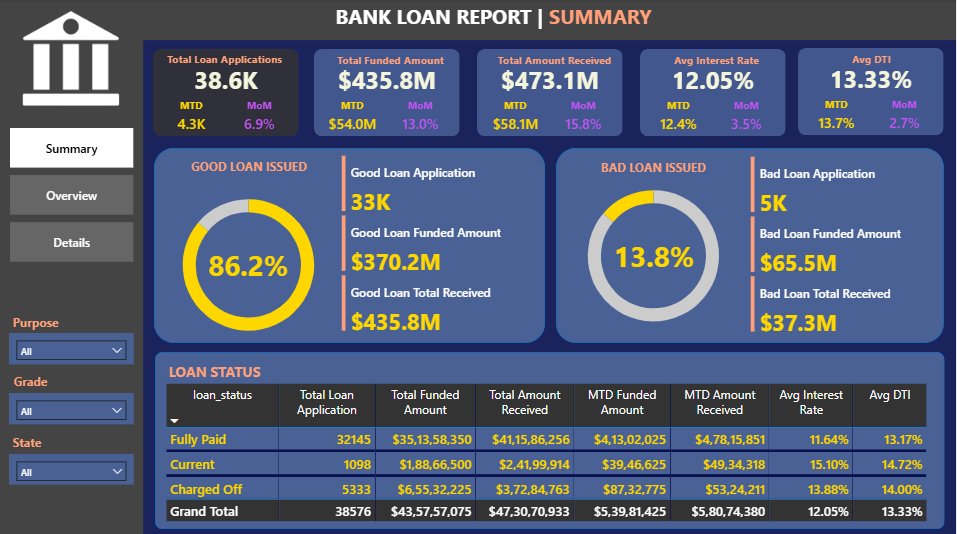

The dashboard page shown, as its layout file describes it:
{"tool":"powerbi","page":{"name":"Summary","canvas":[1280,720],"ordinal":0},"visuals":[{"type":"shape","box":[0,0,1280,55],"z":0},{"type":"shape","box":[1067.7,65.7,195.4,117],"z":0,"group":"g5"},{"type":"shape","box":[420,66.4,195.4,117],"z":0,"group":"g2"},{"type":"shape","box":[638.8,66.4,195.4,117],"z":0,"group":"g3"},{"type":"shape","box":[857.1,66.4,195.4,117],"z":0,"group":"g4"},{"type":"shape","box":[205.3,66.5,195.4,117],"z":0,"group":"g1"},{"type":"shape","box":[205.7,200,524.3,261.4],"z":500,"group":"g6"},{"type":"shape","box":[743.7,200,520,261.4],"z":500,"group":"g8"},{"type":"shape","box":[0,53.3,191.7,665],"z":1000},{"type":"card","fields":{"Values":["bank_loan.Avg DTI"]},"box":[1067.7,83.6,195.4,49.5],"z":1000,"group":"g5"},{"type":"card","fields":{"Values":["bank_loan.Total Funded Amount"]},"box":[420,84.3,195.4,49.5],"z":1000,"group":"g2"},{"type":"card","fields":{"Values":["bank_loan.Total Amount Received"]},"box":[638.8,84.3,195.4,49.5],"z":1000,"group":"g3"},{"type":"card","fields":{"Values":["bank_loan.Avg Interest Rate"]},"box":[857.1,84.3,195.4,49.5],"z":1000,"group":"g4"},{"type":"card","fields":{"Values":["bank_loan.Total Loan Application"]},"box":[205.3,84.4,195.4,49.5],"z":1000,"group":"g1"},{"type":"donutChart","fields":{"Category":["bank_loan.Good v Bad Loan"],"Y":["bank_loan.Total Loan Application"]},"box":[207.5,241.4,250,230],"z":1000,"group":"g6"},{"type":"textbox","box":[439.8,0,448.5,53.9],"z":2000},{"type":"textbox","box":[207.7,65.5,186.4,37.9],"z":2000,"group":"g1"},{"type":"textbox","box":[1072.7,65.8,186.4,37.9],"z":2000,"group":"g5"},{"type":"textbox","box":[428.5,66.5,186.4,37.9],"z":2000,"group":"g2"},{"type":"textbox","box":[649.1,66.5,186.4,37.9],"z":2000,"group":"g3"},{"type":"textbox","box":[865.5,66.5,186.4,37.9],"z":2000,"group":"g4"},{"type":"card","fields":{"Values":["bank_loan.Good Loan %"]},"box":[264.7,327.1,134.3,60],"z":2000,"group":"g6"},{"type":"group","id":"g1","title":"Group 1","box":[192.9,65.5,218.6,121.4],"z":3000},{"type":"card","title":"MTD","fields":{"Values":["bank_loan.MTD Avg DTI"]},"box":[1055.3,133.1,126.6,52.3],"z":3000,"group":"g5"},{"type":"card","title":"MTD","fields":{"Values":["bank_loan.MTD Funded Amount"]},"box":[407.6,133.8,126.6,52.3],"z":3000,"group":"g2"},{"type":"card","title":"MTD","fields":{"Values":["bank_loan.MTD Amount Received"]},"box":[626.4,133.8,126.6,52.3],"z":3000,"group":"g3"},{"type":"card","title":"MTD","fields":{"Values":["bank_loan.MTD Avg Int Rate"]},"box":[844.7,133.8,126.6,52.3],"z":3000,"group":"g4"},{"type":"card","title":"MTD","fields":{"Values":["bank_loan.MTD Loan Applications"]},"box":[192.9,133.9,126.6,52.3],"z":3000,"group":"g1"},{"type":"textbox","box":[244.7,210,177.1,37.1],"z":3000,"group":"g6"},{"type":"group","id":"g2","title":"Group 1","box":[407.6,66.4,217.5,119.7],"z":4000},{"type":"card","title":"MoM","fields":{"Values":["bank_loan.MoM Avg DTI"]},"box":[1146.1,133.1,126.6,52.3],"z":4000,"group":"g5"},{"type":"card","title":"MoM","fields":{"Values":["bank_loan.MoM Funded Amount"]},"box":[498.4,133.8,126.6,52.3],"z":4000,"group":"g2"},{"type":"card","title":"MoM","fields":{"Values":["bank_loan.MoM Amount Received"]},"box":[717.2,133.8,126.6,52.3],"z":4000,"group":"g3"},{"type":"card","title":"MoM","fields":{"Values":["bank_loan.MoM Avg Interest Rate"]},"box":[935.5,133.8,126.6,52.3],"z":4000,"group":"g4"},{"type":"card","title":"MoM","fields":{"Values":["bank_loan.MoM Loan Applications"]},"box":[283.7,133.9,126.6,52.3],"z":4000,"group":"g1"},{"type":"cardVisual","fields":{"Data":["bank_loan.Good Loan Application","bank_loan.Good Loan Funded Amount","bank_loan.Good Loan Total Received"]},"box":[452.2,205.7,250,245.7],"z":4000,"group":"g6"},{"type":"group","id":"g3","title":"Group 1","box":[626.4,66.4,217.5,119.7],"z":5000},{"type":"group","id":"g4","title":"Group 1","box":[844.7,66.4,217.5,119.7],"z":6000},{"type":"group","id":"g5","title":"Group 1","box":[1055.3,65.7,217.5,119.7],"z":7000},{"type":"group","id":"g6","title":"Group 2","box":[205.7,200,524.3,271.4],"z":8000},{"type":"shape","box":[207.1,472.9,1057.1,237.1],"z":9000},{"type":"group","id":"g7","title":"Group 3","box":[748.5,206.8,500.9,253.4],"z":10000,"group":"g8"},{"type":"tableEx","fields":{"Values":["bank_loan.loan_status","bank_loan.Total Loan Application","bank_loan.Total Funded Amount","bank_loan.Total Amount Received","bank_loan.MTD Funded Amount","bank_loan.MTD Amount Received","bank_loan.Avg Interest Rate","bank_loan.Avg DTI"]},"box":[216.7,510,1063.3,201.7],"z":10000},{"type":"textbox","box":[221.4,480,218.6,37.1],"z":11000},{"type":"group","id":"g8","title":"Group 4","box":[743.7,200,520,261.4],"z":12000},{"type":"slicer","fields":{"Values":["bank_loan.State Name"]},"box":[12,608.6,167.1,41.4],"z":13000},{"type":"donutChart","fields":{"Category":["bank_loan.Good v Bad Loan"],"Y":["bank_loan.Total Loan Application"]},"box":[748.5,230.1,250.5,230.1],"z":14000,"group":"g7"},{"type":"textbox","box":[11.7,578.3,83.3,36.7],"z":14000},{"type":"card","fields":{"Values":["bank_loan.Bad Loan %"]},"box":[806.7,314.6,134,59.7],"z":15000,"group":"g7"},{"type":"slicer","fields":{"Values":["bank_loan.grade"]},"box":[12,527,166.7,41.7],"z":15000},{"type":"textbox","box":[780.5,211.2,186.4,37.9],"z":16000,"group":"g7"},{"type":"textbox","box":[13.1,497,83.3,36.7],"z":16000},{"type":"cardVisual","fields":{"Data":["bank_loan.Bad Loan Application","bank_loan.Bad Loan Funded Amount","bank_loan.Bad Loan Total Received"]},"box":[999,206.8,250.5,246.1],"z":17000,"group":"g7"},{"type":"slicer","fields":{"Values":["bank_loan.purpose"]},"box":[12,447,166.7,41.7],"z":17000},{"type":"textbox","box":[11.4,417,83.3,36.7],"z":18000},{"type":"image","box":[21.7,0,146.7,155],"z":19000},{"type":"pageNavigator","box":[12.9,172.9,165.7,180],"z":19001}]}

Visuals, with their boxes in screenshot pixels (x1, y1, x2, y2), scaled from the page's 1280x720 canvas onto the 957x534 screenshot:
shape: <box>0,0,956,41</box>
shape: <box>798,49,944,136</box>
shape: <box>314,49,460,136</box>
shape: <box>478,49,624,136</box>
shape: <box>641,49,787,136</box>
shape: <box>153,49,300,136</box>
shape: <box>154,148,546,342</box>
shape: <box>556,148,945,342</box>
shape: <box>0,40,143,533</box>
card - bank_loan.Avg DTI: <box>798,62,944,99</box>
card - bank_loan.Total Funded Amount: <box>314,63,460,99</box>
card - bank_loan.Total Amount Received: <box>478,63,624,99</box>
card - bank_loan.Avg Interest Rate: <box>641,63,787,99</box>
card - bank_loan.Total Loan Application: <box>153,63,300,99</box>
donutChart - bank_loan.Good v Bad Loan x bank_loan.Total Loan Application: <box>155,179,342,350</box>
textbox: <box>329,0,664,40</box>
textbox: <box>155,49,295,77</box>
textbox: <box>802,49,941,77</box>
textbox: <box>320,49,460,77</box>
textbox: <box>485,49,625,77</box>
textbox: <box>647,49,786,77</box>
card - bank_loan.Good Loan %: <box>198,243,298,287</box>
"Group 1" group: <box>144,49,308,139</box>
"MTD" card: <box>789,99,884,138</box>
"MTD" card: <box>305,99,399,138</box>
"MTD" card: <box>468,99,563,138</box>
"MTD" card: <box>632,99,726,138</box>
"MTD" card: <box>144,99,239,138</box>
textbox: <box>183,156,315,183</box>
"Group 1" group: <box>305,49,467,138</box>
"MoM" card: <box>857,99,952,138</box>
"MoM" card: <box>373,99,467,138</box>
"MoM" card: <box>536,99,631,138</box>
"MoM" card: <box>699,99,794,138</box>
"MoM" card: <box>212,99,307,138</box>
cardVisual - bank_loan.Good Loan Application x bank_loan.Good Loan Funded Amount: <box>338,153,525,335</box>
"Group 1" group: <box>468,49,631,138</box>
"Group 1" group: <box>632,49,794,138</box>
"Group 1" group: <box>789,49,952,138</box>
"Group 2" group: <box>154,148,546,350</box>
shape: <box>155,351,945,527</box>
"Group 3" group: <box>560,153,934,341</box>
tableEx - bank_loan.loan_status x bank_loan.Total Loan Application: <box>162,378,956,528</box>
textbox: <box>166,356,329,384</box>
"Group 4" group: <box>556,148,945,342</box>
slicer - bank_loan.State Name: <box>9,451,134,482</box>
donutChart - bank_loan.Good v Bad Loan x bank_loan.Total Loan Application: <box>560,171,747,341</box>
textbox: <box>9,429,71,456</box>
card - bank_loan.Bad Loan %: <box>603,233,703,278</box>
slicer - bank_loan.grade: <box>9,391,134,422</box>
textbox: <box>584,157,723,185</box>
textbox: <box>10,369,72,396</box>
cardVisual - bank_loan.Bad Loan Application x bank_loan.Bad Loan Funded Amount: <box>747,153,934,336</box>
slicer - bank_loan.purpose: <box>9,332,134,362</box>
textbox: <box>9,309,71,336</box>
image: <box>16,0,126,115</box>
pageNavigator: <box>10,128,134,262</box>
